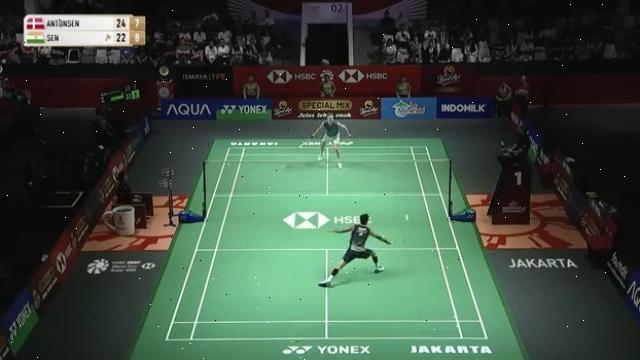Shuttlecock: (401, 209, 412, 222)
